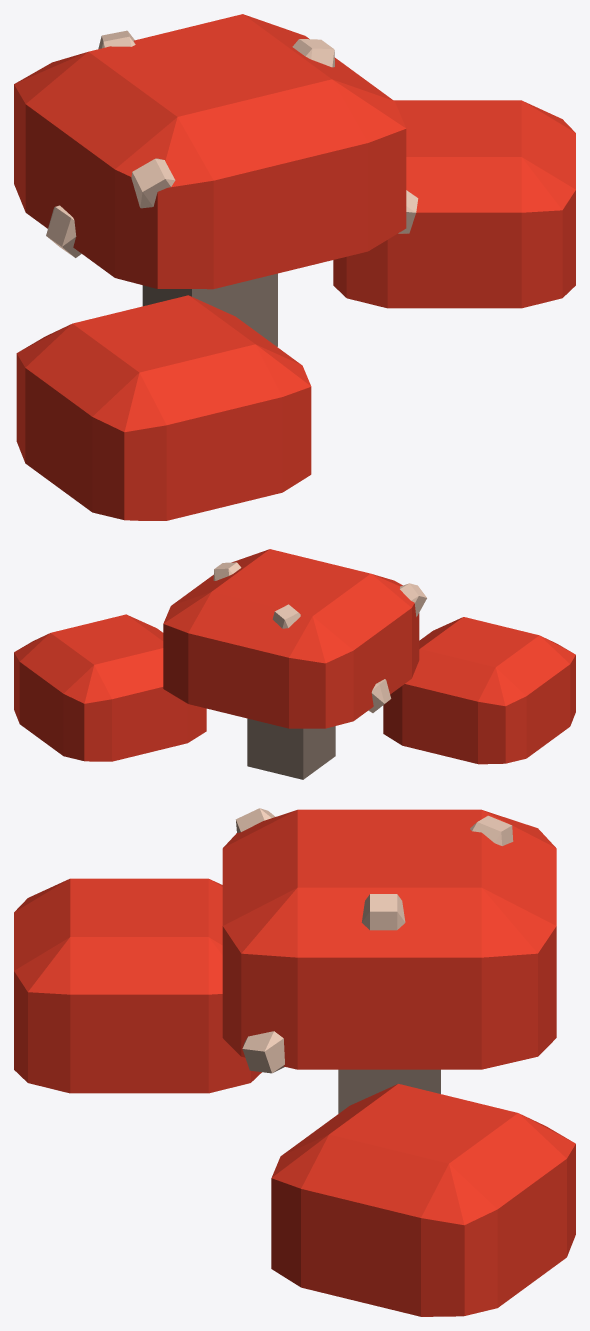
File: SM_Mushroom_01_C.fbx
3 renders of one model, top to bottom at view 1: azimuth 30°, elevation 25°; view 2: azimuth 150°, elevation 25°; view 3: azimuth 270°, elevation 25°, orthographic. The views are drawn at different scales.
Parts seen in each view (by area): view 1: pCube467; view 2: pCube467; view 3: pCube467.
Part boxes in pixels (x1,y1,x2,y2): pCube467: (14, 14, 575, 520); pCube467: (14, 549, 575, 779); pCube467: (14, 808, 575, 1316).
Bounding box in the file's own units: 30.05 × 12.78 × 21.42.
